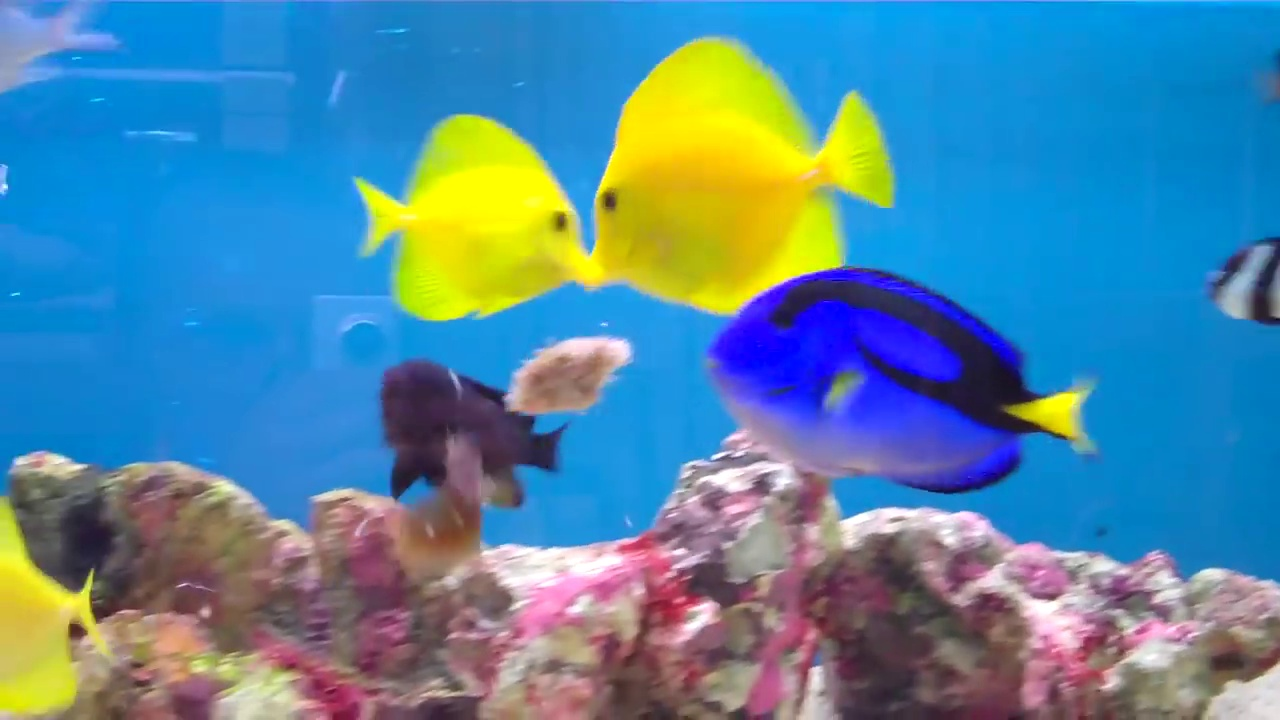blue tang surgeonfish: (697, 269, 1124, 517)
saddle butterfly fish: (593, 31, 909, 345), (345, 104, 590, 309)
